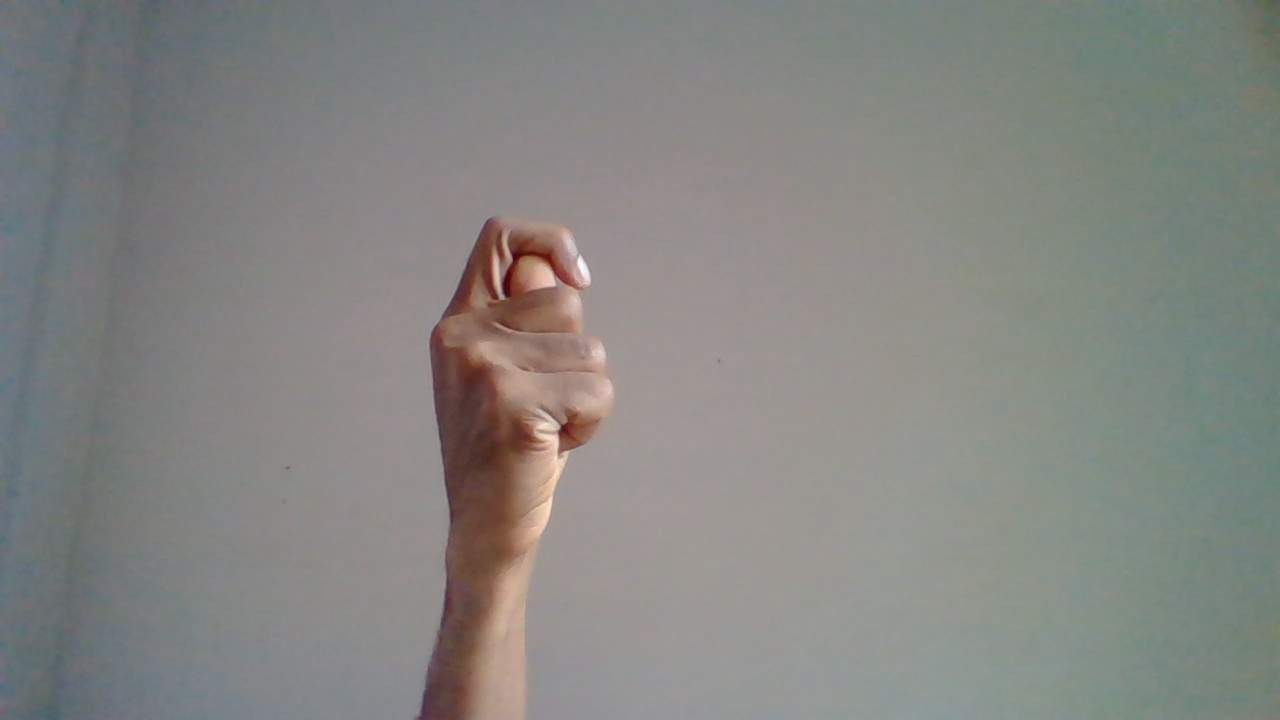che: (426, 212, 619, 670)
